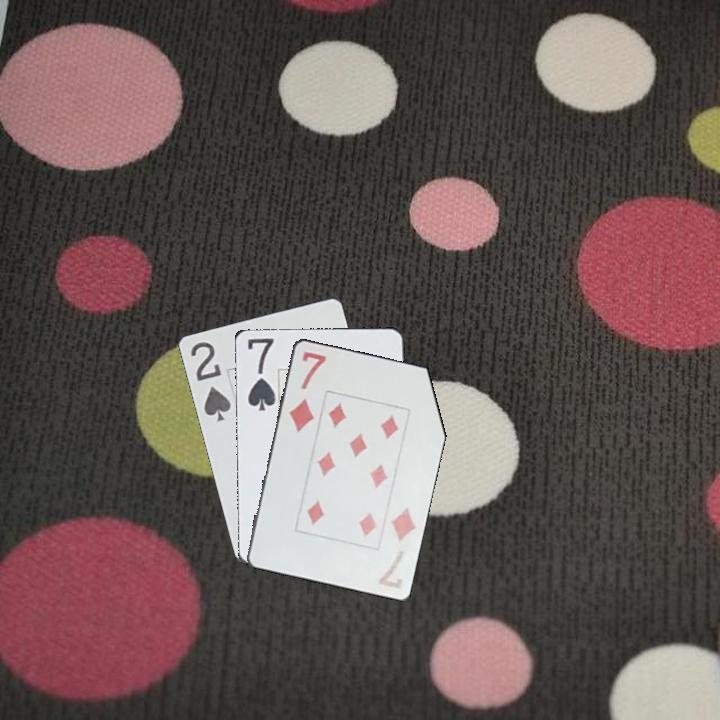2s: (187, 338, 234, 424)
7d: (375, 503, 419, 591), (286, 347, 329, 435)
7s: (244, 334, 278, 414)
